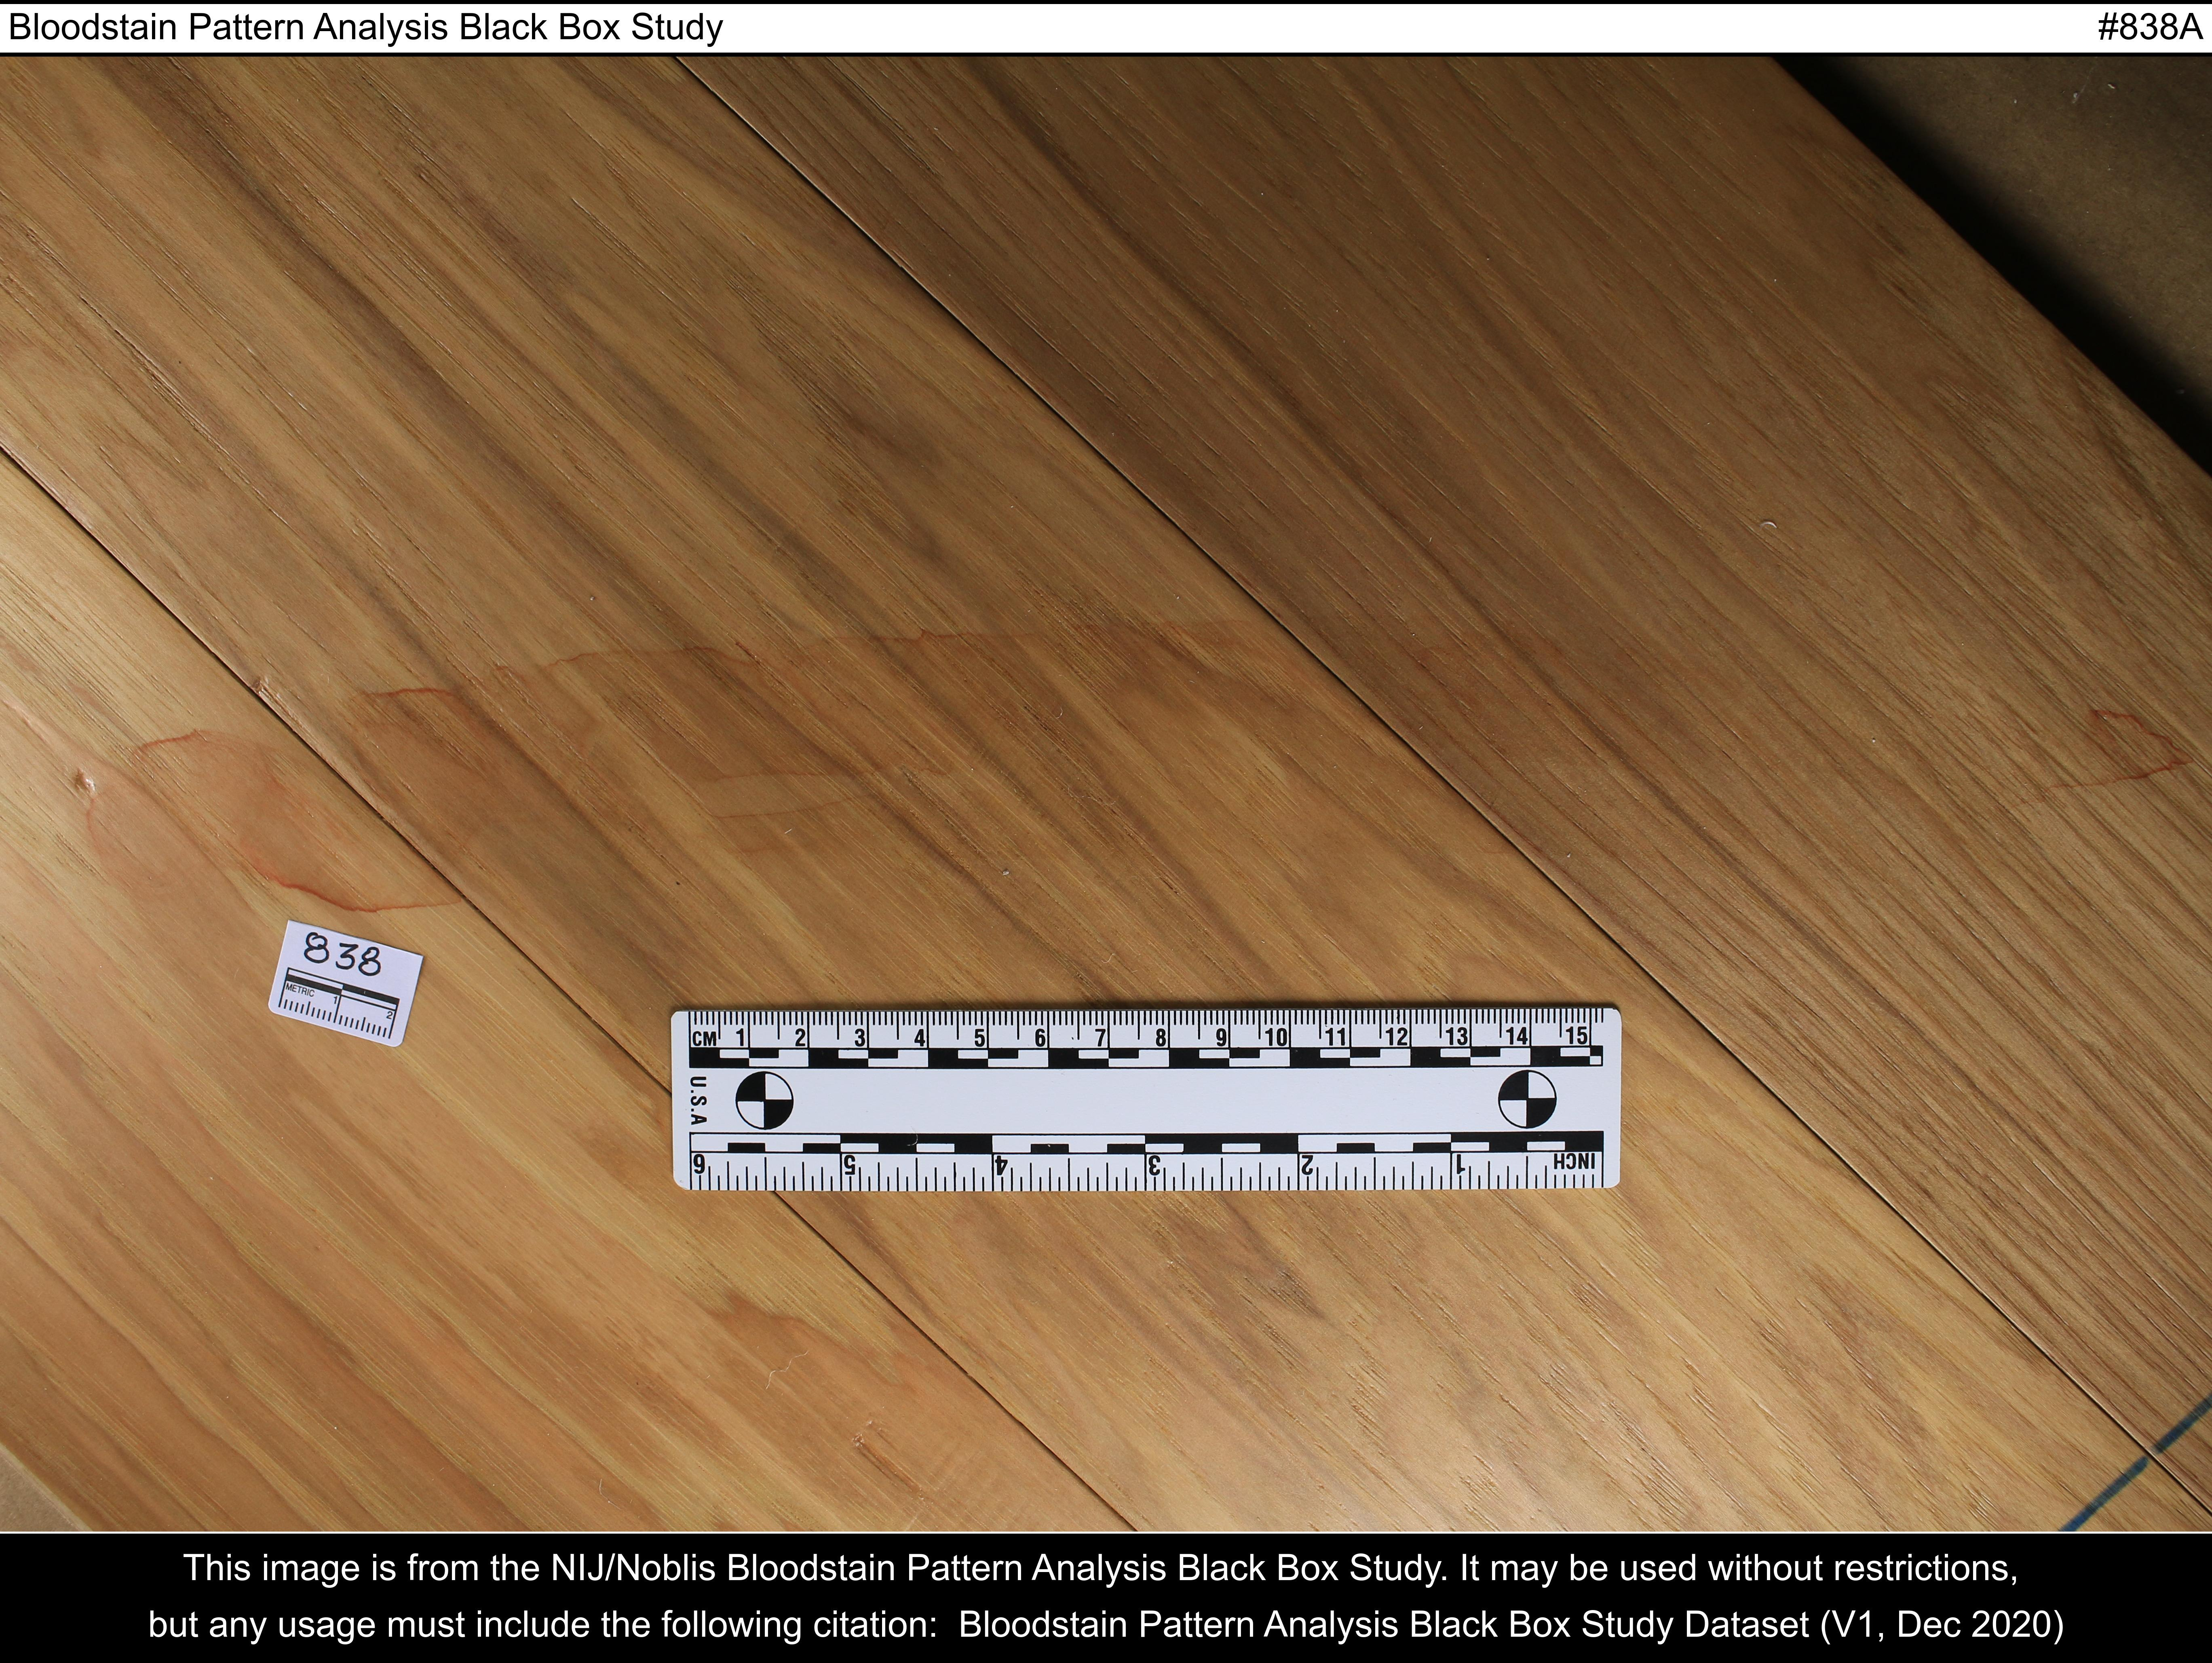Transfer: (37, 608, 2202, 983)
